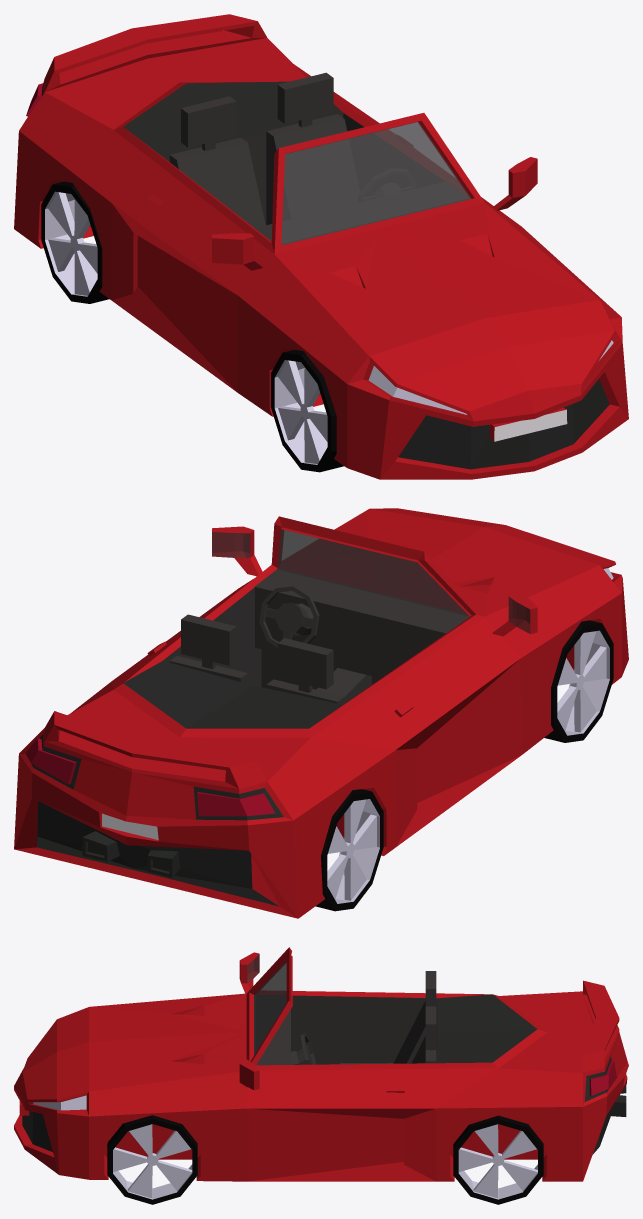
Rendered from car2.glb.
3 views of the same model, one above another, from view 1: azimuth 30°, elevation 25°; view 2: azimuth 150°, elevation 25°; view 3: azimuth 270°, elevation 25° (orthographic). The views are drawn at different scales.
Parts seen in each view (by area): view 1: Roadster, Roadster wheel front right, Roadster wheel rear right; view 2: Roadster, Roadster wheel front right, Roadster wheel rear right; view 3: Roadster, Roadster wheel front left, Roadster wheel rear left.
Part boxes in pixels (x1,y1,x2,y2): Roadster: [14, 14, 628, 479]; Roadster wheel front right: [271, 349, 343, 472]; Roadster wheel rear right: [41, 181, 109, 303]; Roadster: [14, 508, 628, 918]; Roadster wheel front right: [544, 620, 613, 742]; Roadster wheel rear right: [315, 789, 383, 911]; Roadster: [14, 947, 628, 1181]; Roadster wheel front left: [107, 1115, 197, 1204]; Roadster wheel rear left: [453, 1115, 543, 1204].
Bounding box in the file's own units: 2.63 × 1.84 × 5.73.
